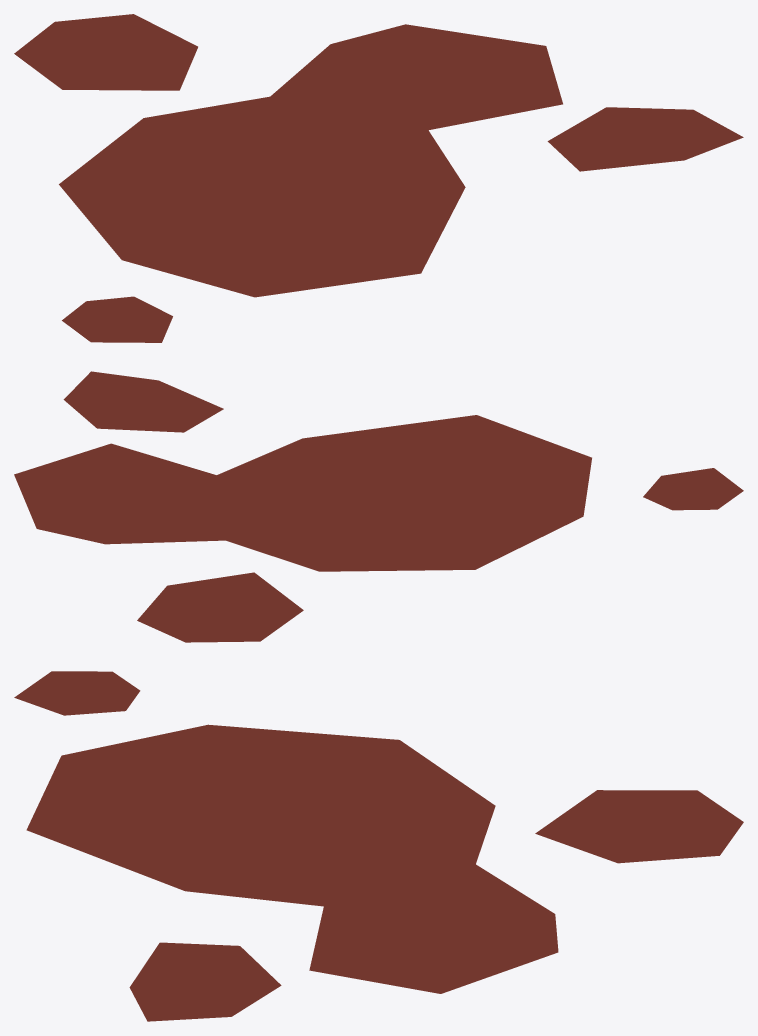
The model's file is SD_Prop_BloodSplat_01.fbx.
3 renders of one model, top to bottom at view 1: azimuth 30°, elevation 25°; view 2: azimuth 150°, elevation 25°; view 3: azimuth 270°, elevation 25°, orthographic. The views are drawn at different scales.
Parts seen in each view (by area): view 1: SD_Prop_BloodSplat_01; view 2: SD_Prop_BloodSplat_01; view 3: SD_Prop_BloodSplat_01.
Part boxes in pixels (box(x1,y1,x2,y2)): SD_Prop_BloodSplat_01: box(14, 14, 743, 342); SD_Prop_BloodSplat_01: box(14, 371, 743, 642); SD_Prop_BloodSplat_01: box(14, 671, 743, 1021).
Bounding box in the file's own units: 1.04 × 0.000318 × 0.9124.
